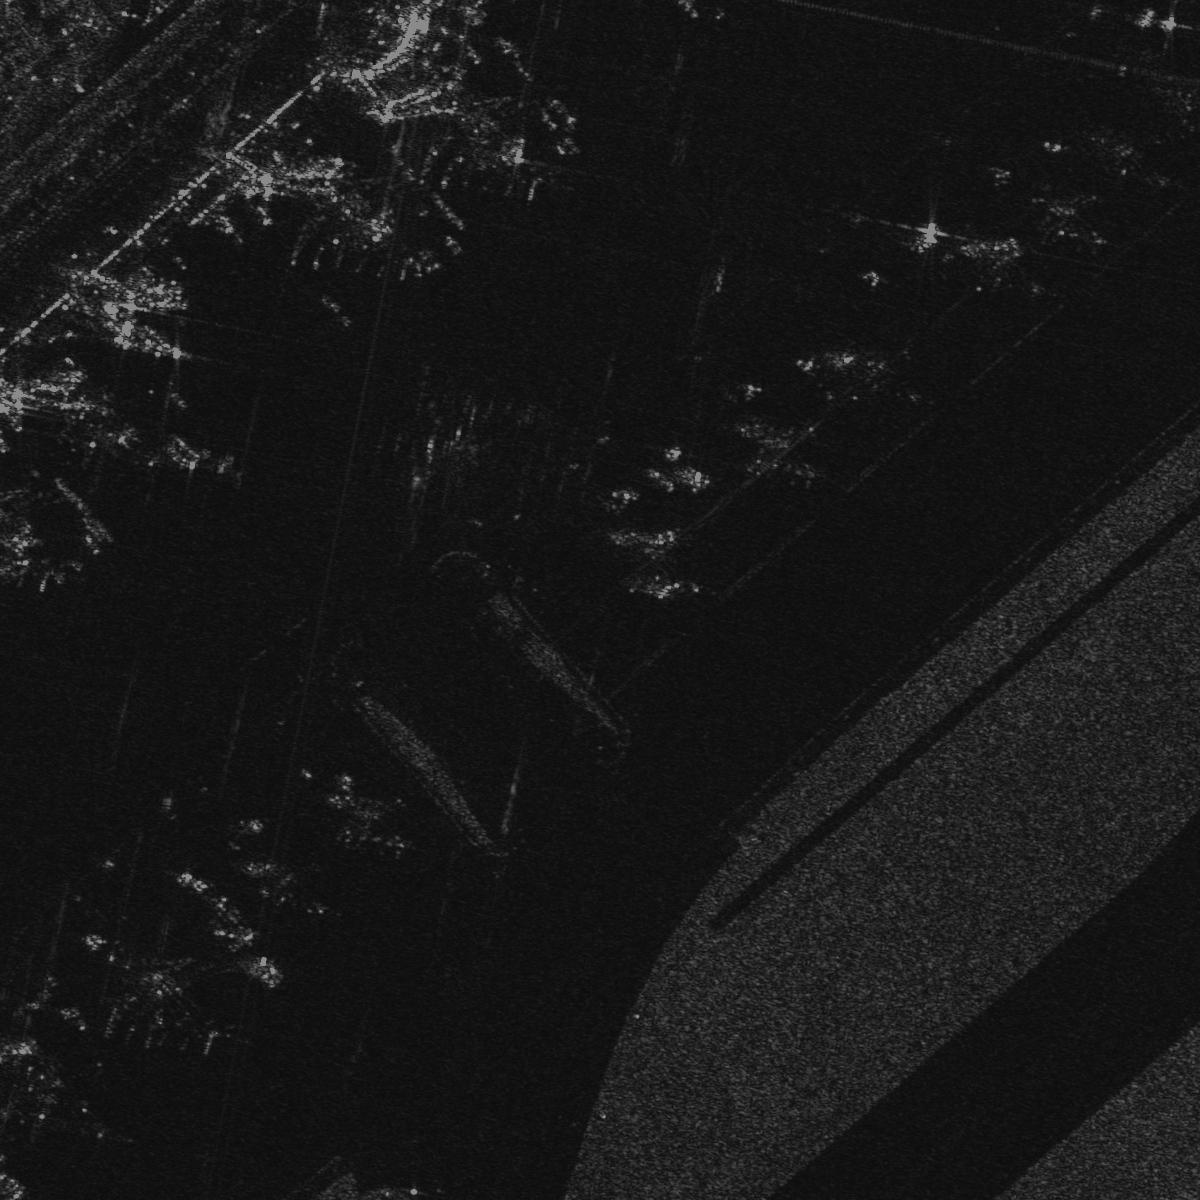Boeing737: (285, 175, 445, 286), (424, 88, 573, 197), (735, 414, 843, 502), (811, 341, 933, 416), (1092, 122, 1191, 204), (331, 769, 418, 857), (962, 237, 1056, 311), (248, 852, 332, 922), (1141, 69, 1199, 155), (1038, 184, 1107, 254)
other: (87, 933, 238, 1053)
